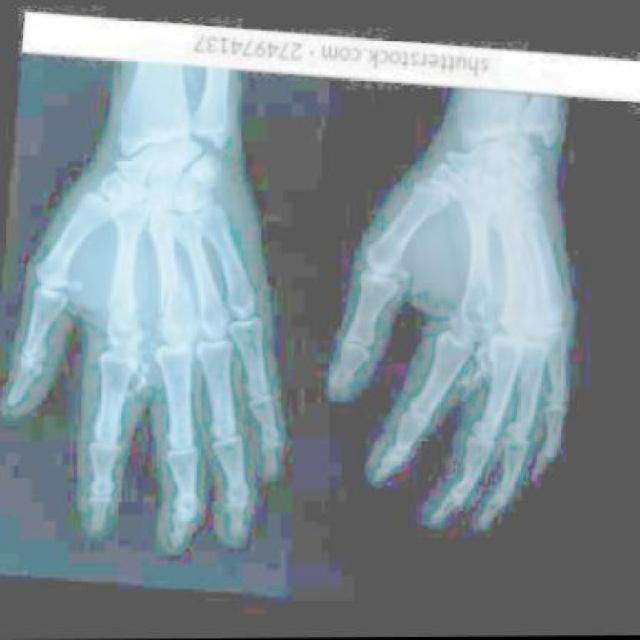Fracture: (149, 266, 200, 319), (497, 276, 533, 318)
